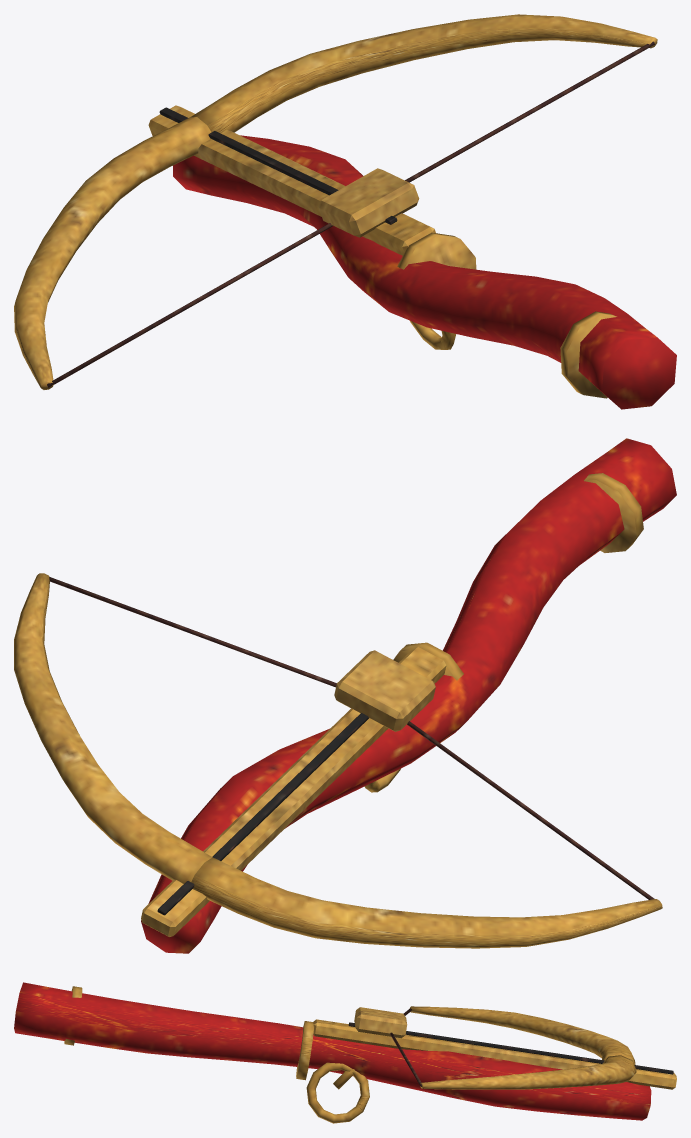
Rendered from item_crsbow2.glb.
3 renders of one model, top to bottom at view 1: azimuth 30°, elevation 25°; view 2: azimuth 150°, elevation 25°; view 3: azimuth 270°, elevation 25°, orthographic. The views are drawn at different scales.
Visible parts, largest first — view 1: item_crsbow2; view 2: item_crsbow2; view 3: item_crsbow2.
Part boxes in pixels (bbox=[...]): item_crsbow2: bbox=[14, 14, 676, 409]; item_crsbow2: bbox=[14, 438, 676, 953]; item_crsbow2: bbox=[14, 982, 676, 1123].
Size of the model in its own units: 0.7375 by 0.2202 by 1.
Materials: 1 (1 with a texture image).
